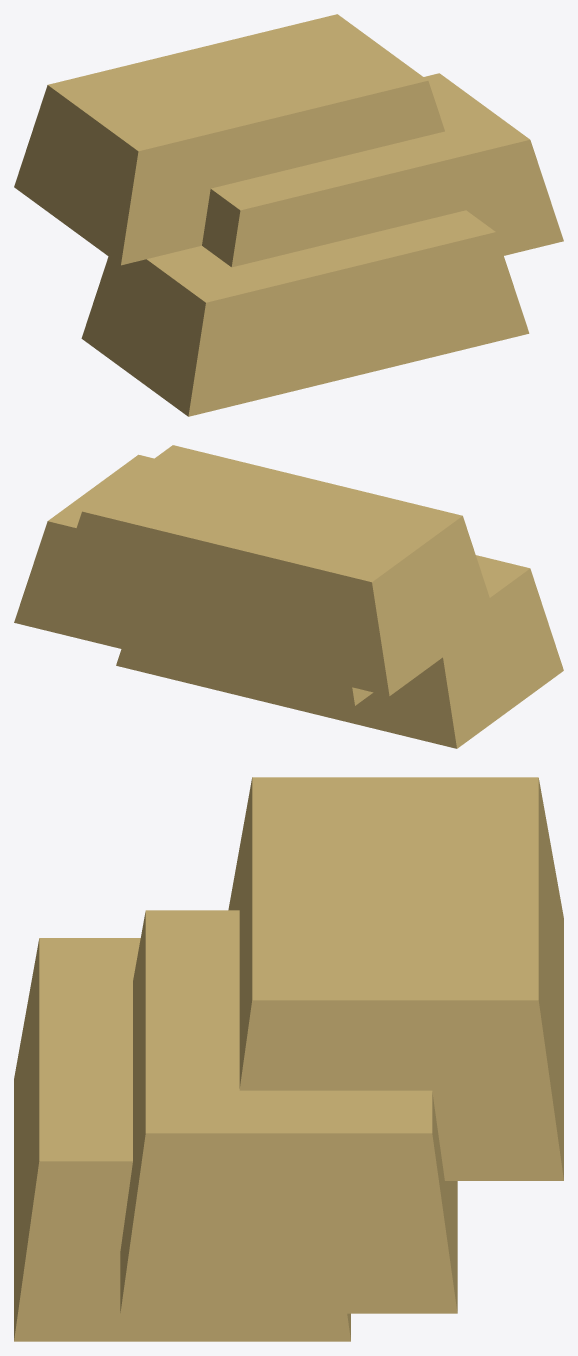
The model's file is item_078_bronze_ingot_m.glb.
The picture shows the model from 3 angles, top to bottom: view 1: azimuth 30°, elevation 25°; view 2: azimuth 150°, elevation 25°; view 3: azimuth 270°, elevation 25°; orthographic projection. The views are drawn at different scales.
Visible parts, largest first — view 1: item_078_bronze_ingot_m; view 2: item_078_bronze_ingot_m; view 3: item_078_bronze_ingot_m.
Boxes of the visible parts, x1,y1,x2,y2 form: item_078_bronze_ingot_m: (14, 14, 563, 416); item_078_bronze_ingot_m: (14, 445, 563, 748); item_078_bronze_ingot_m: (14, 777, 563, 1341).
Bounding box in the file's own units: 0.42 × 0.2 × 0.31.
